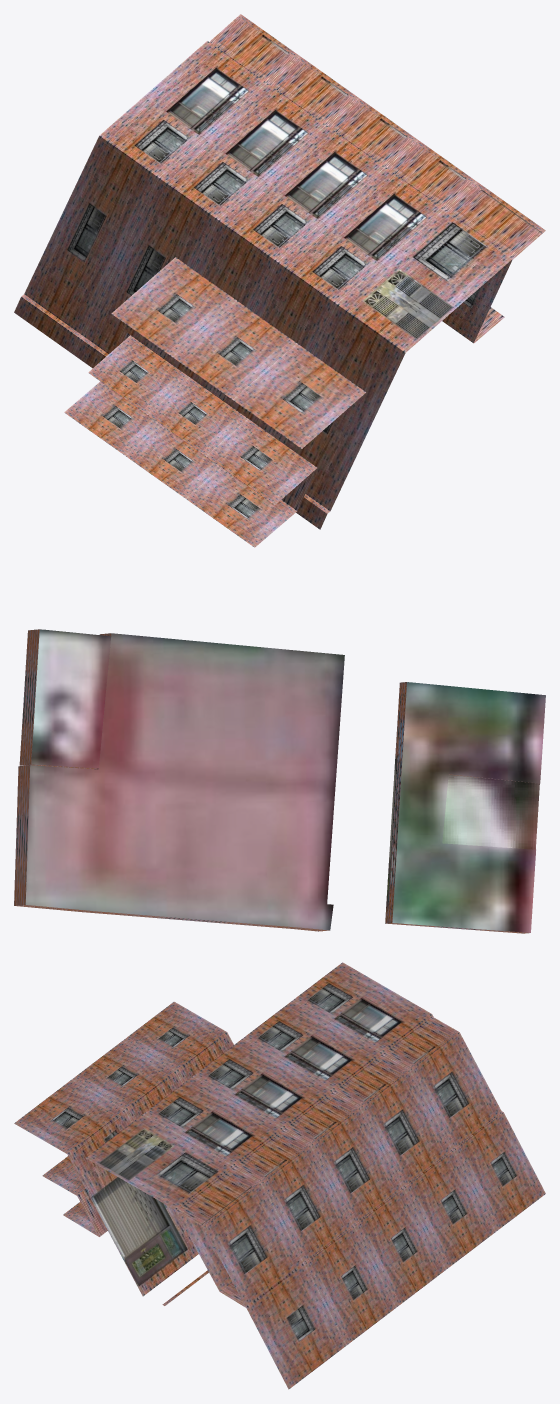
3 renders of one model, top to bottom at view 1: azimuth 30°, elevation 25°; view 2: azimuth 150°, elevation 25°; view 3: azimuth 270°, elevation 25°, orthographic. The views are drawn at different scales.
Bounding box in the file's own units: 21.12 × 15.79 × 23.25.
Materials: 15 (15 with a texture image).
